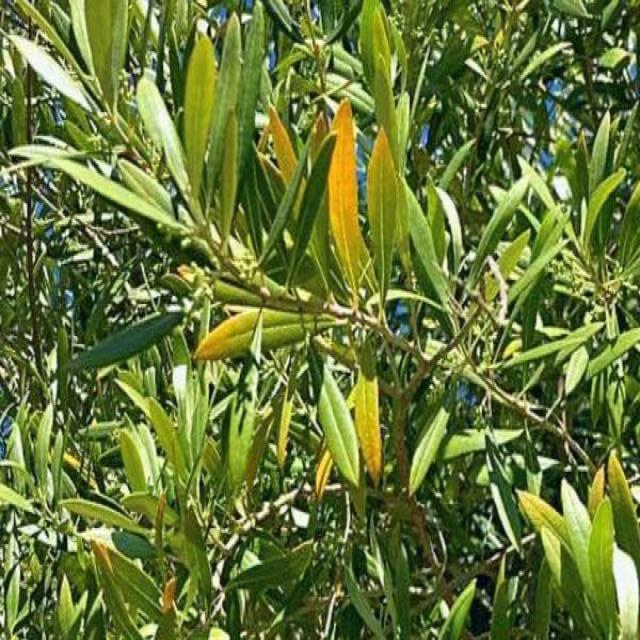OlivePeacockSpot: (328, 99, 360, 273), (368, 132, 397, 298)
